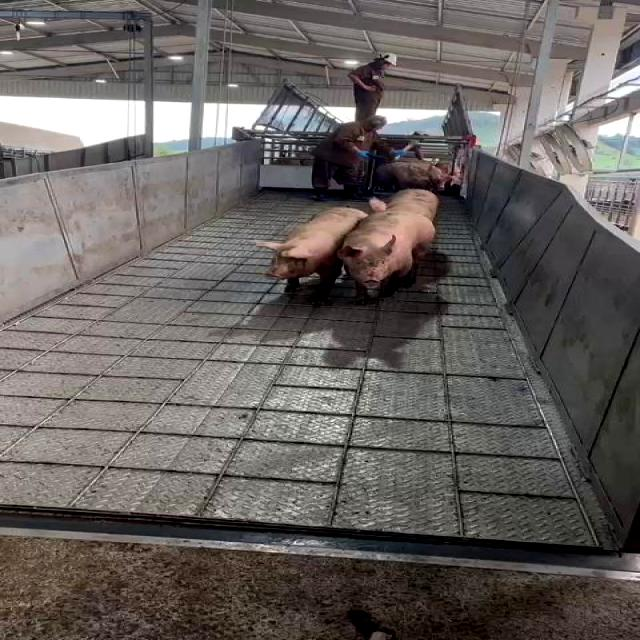pig: (253, 208, 366, 303), (340, 193, 435, 303)
